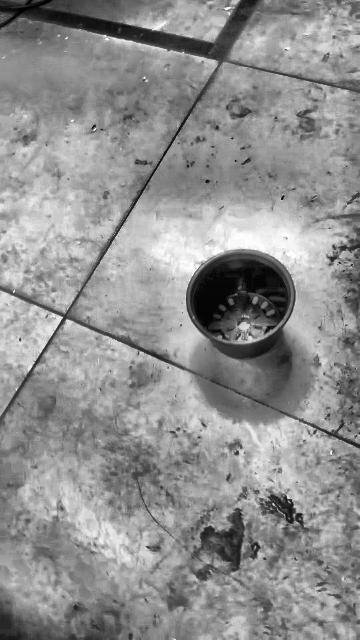pot: (186, 250, 295, 358)
